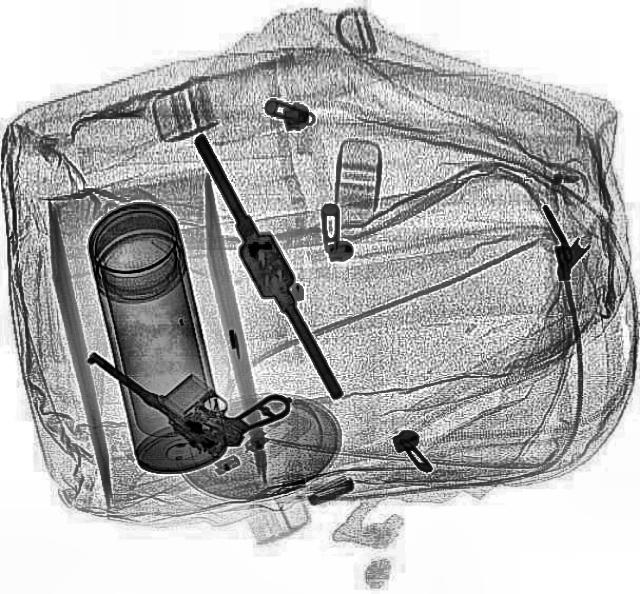Gun: (80, 297, 296, 472)
